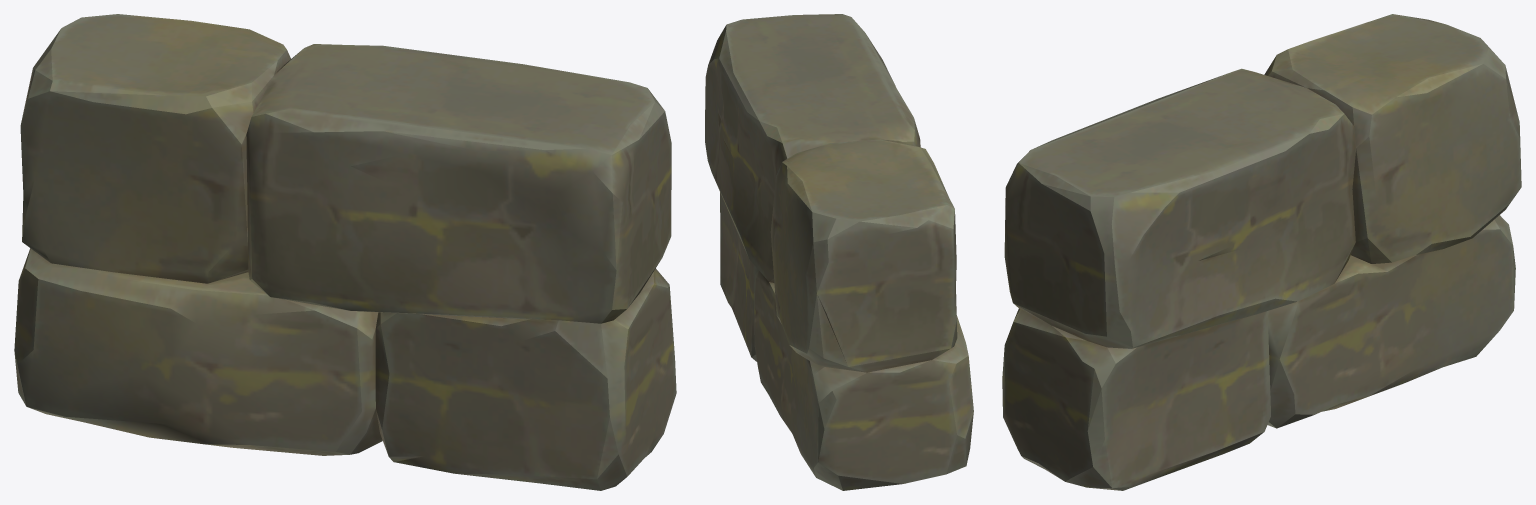
Rendered from lowWall3.fbx.
3 renders of one model, left to right at view 1: azimuth 30°, elevation 25°; view 2: azimuth 150°, elevation 25°; view 3: azimuth 270°, elevation 25°, orthographic. The views are drawn at different scales.
Parts seen in each view (by area): view 1: lowWall3; view 2: lowWall3; view 3: lowWall3.
Part boxes in pixels (box(x1,y1,x2,y2)): lowWall3: box(14, 14, 676, 490); lowWall3: box(705, 14, 973, 490); lowWall3: box(1002, 14, 1521, 490).
Bounding box in the file's own units: 4.44 × 3 × 4.68.
1 material, 1 textured.
